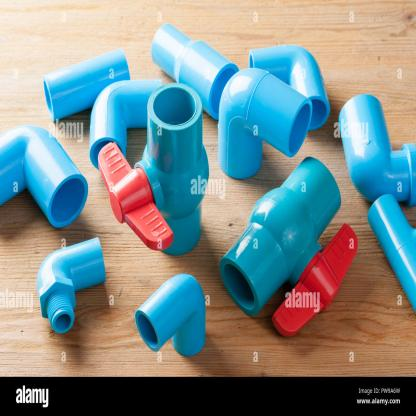PVC: (44, 46, 212, 256), (221, 155, 356, 335), (218, 67, 311, 177), (0, 118, 90, 228), (152, 22, 237, 114), (337, 101, 414, 202), (249, 47, 329, 131), (37, 236, 106, 332), (137, 275, 208, 357), (370, 195, 414, 314)
